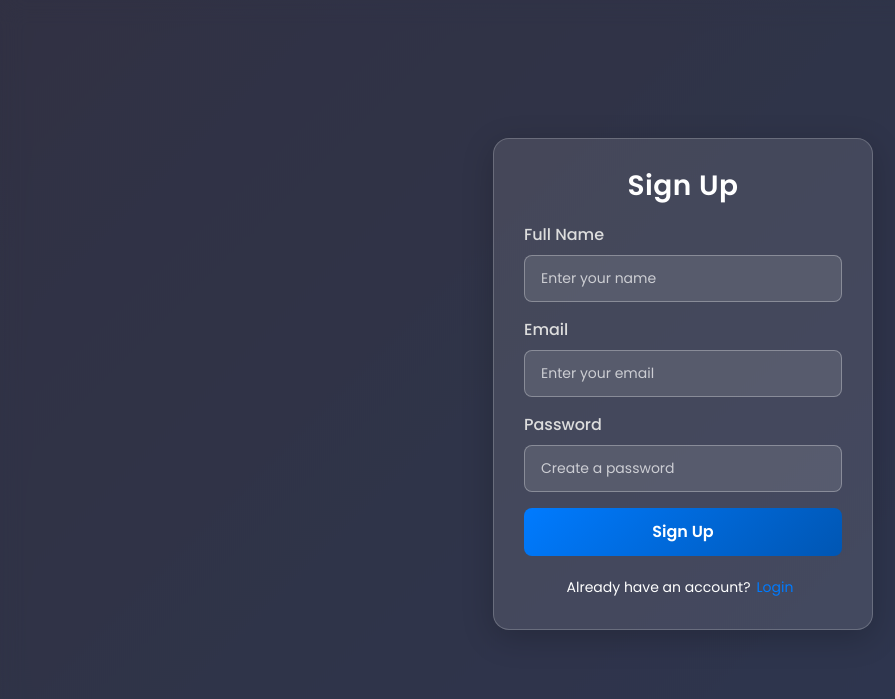
Test: Signup Component › shows error message for invalid email format
Type "John Doe" into the field with placeholder "Enter your name" at coordinates (683, 278), box [524,255,842,302]
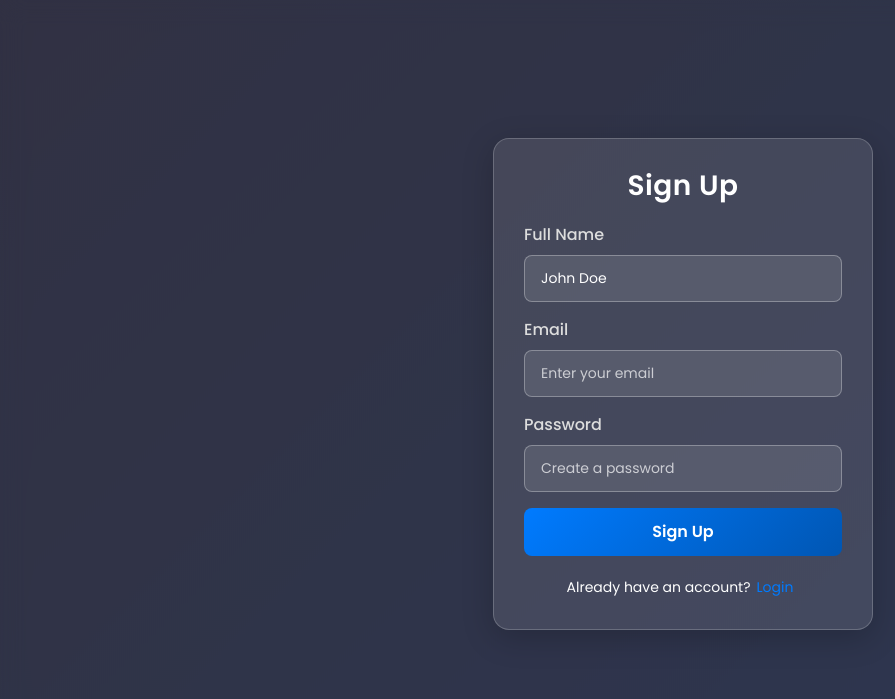
Type "invalid-email" into the field with placeholder "Enter your email" at coordinates (683, 373), box [524,350,842,397]
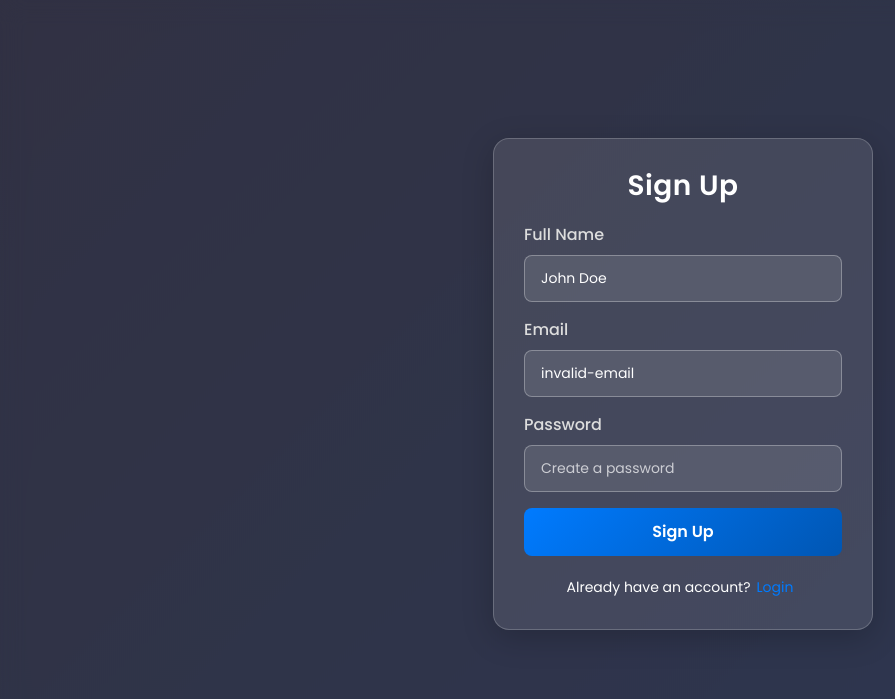
Type "password123" into the password field with placeholder "Create a password" at coordinates (683, 468), box [524,445,842,492]
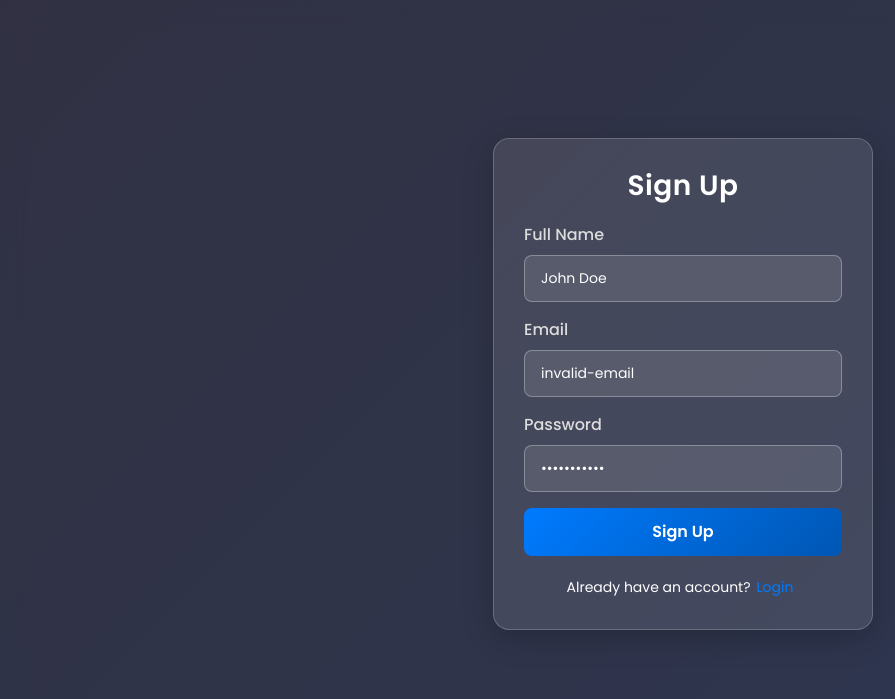
Click the button "Sign Up" at coordinates (683, 532), box [524,508,842,556]
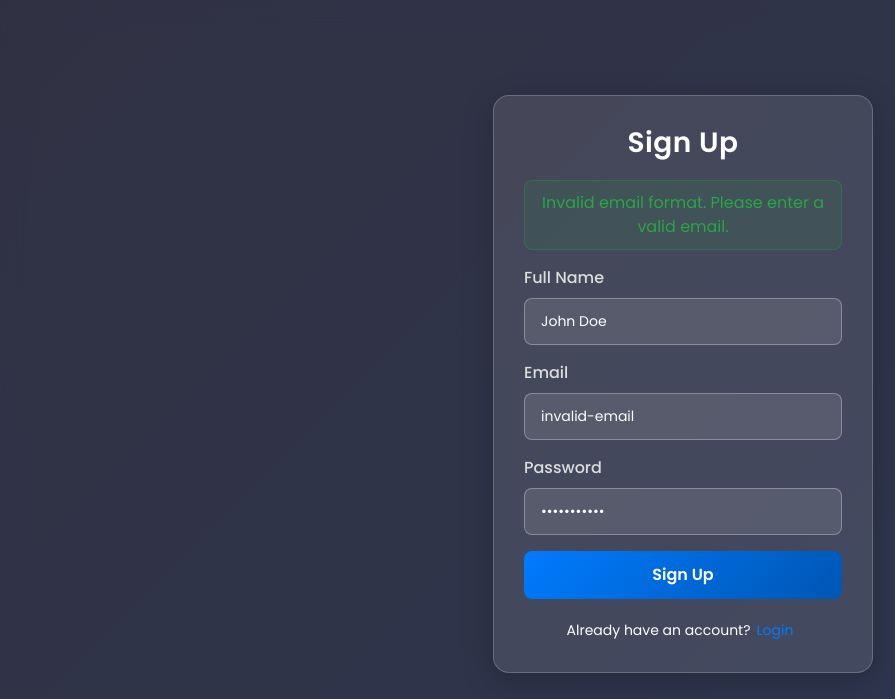
Result: the text "Invalid email format. Please enter a valid email." is shown at [524,180,842,250]
